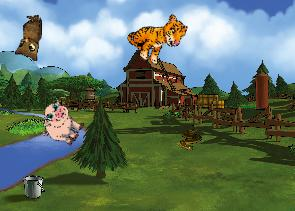owl: (13, 14, 42, 61)
pig: (34, 97, 89, 150)
tiger: (122, 1, 191, 71)
